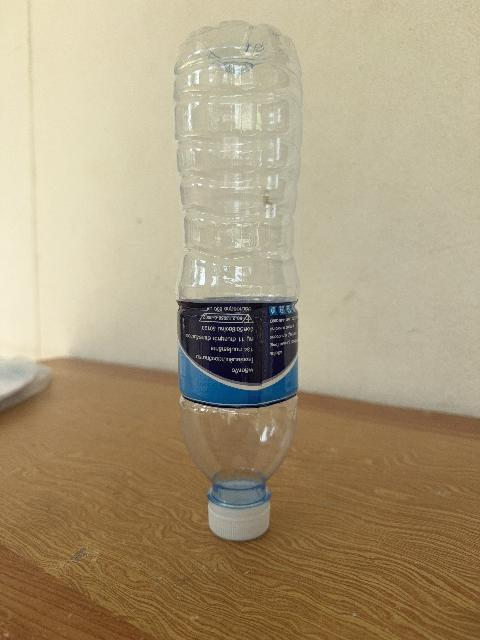bottle: (175, 22, 301, 539)
